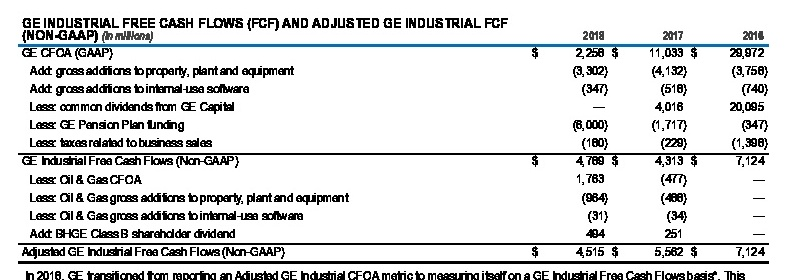table: (0, 0, 790, 280)
